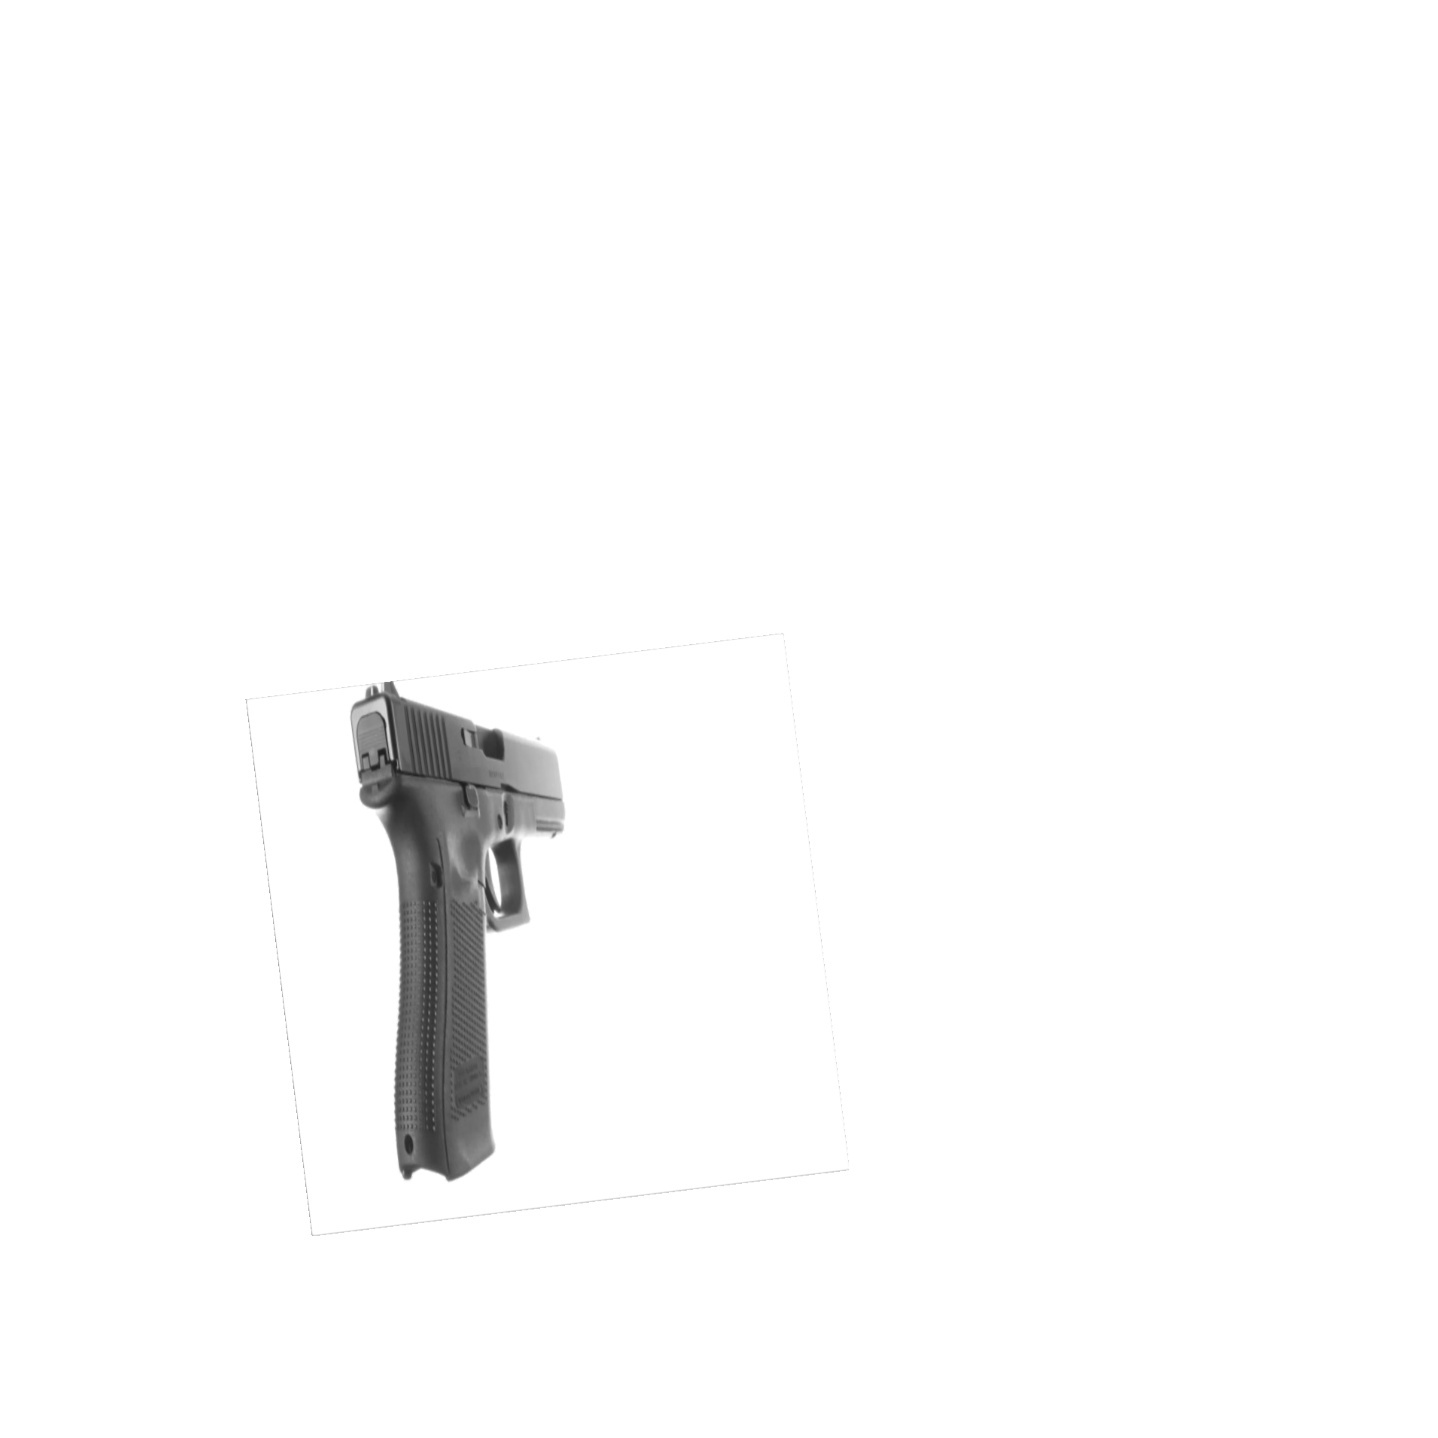gun: (348, 682, 568, 1179)
